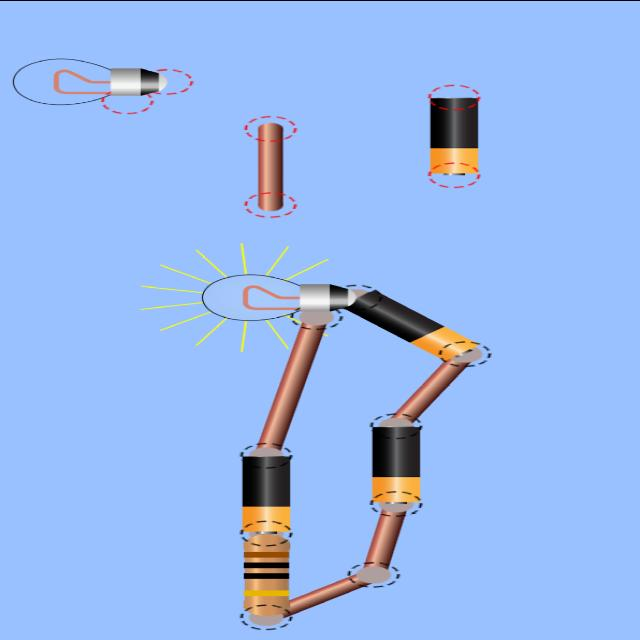Battery: (344, 290, 478, 359), (242, 454, 290, 531), (431, 96, 478, 174), (372, 425, 420, 501)
Light Bulb: (201, 272, 355, 320), (13, 58, 168, 104)
Resistor: (245, 534, 290, 615)
Wire: (260, 322, 322, 449), (392, 359, 468, 419), (288, 574, 367, 613), (257, 122, 283, 210), (364, 509, 404, 566)
